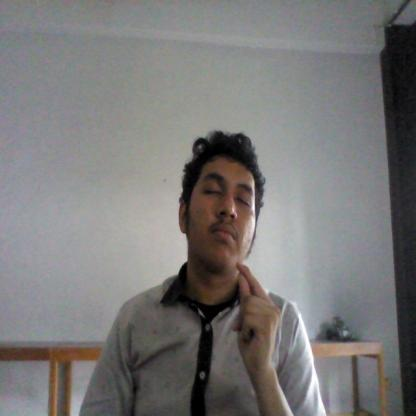R: (226, 258, 286, 373)
